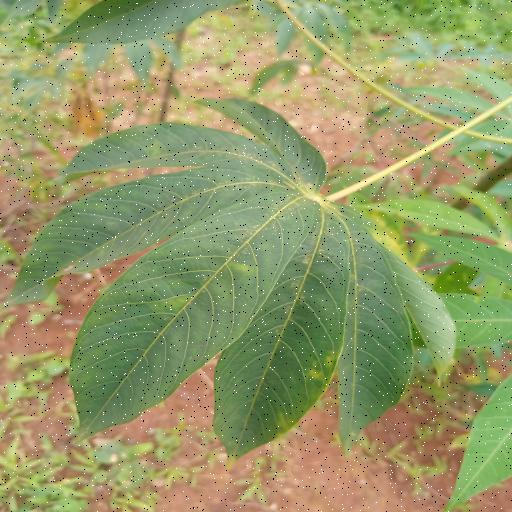Cassava_Mosaic: (17, 89, 454, 456)
